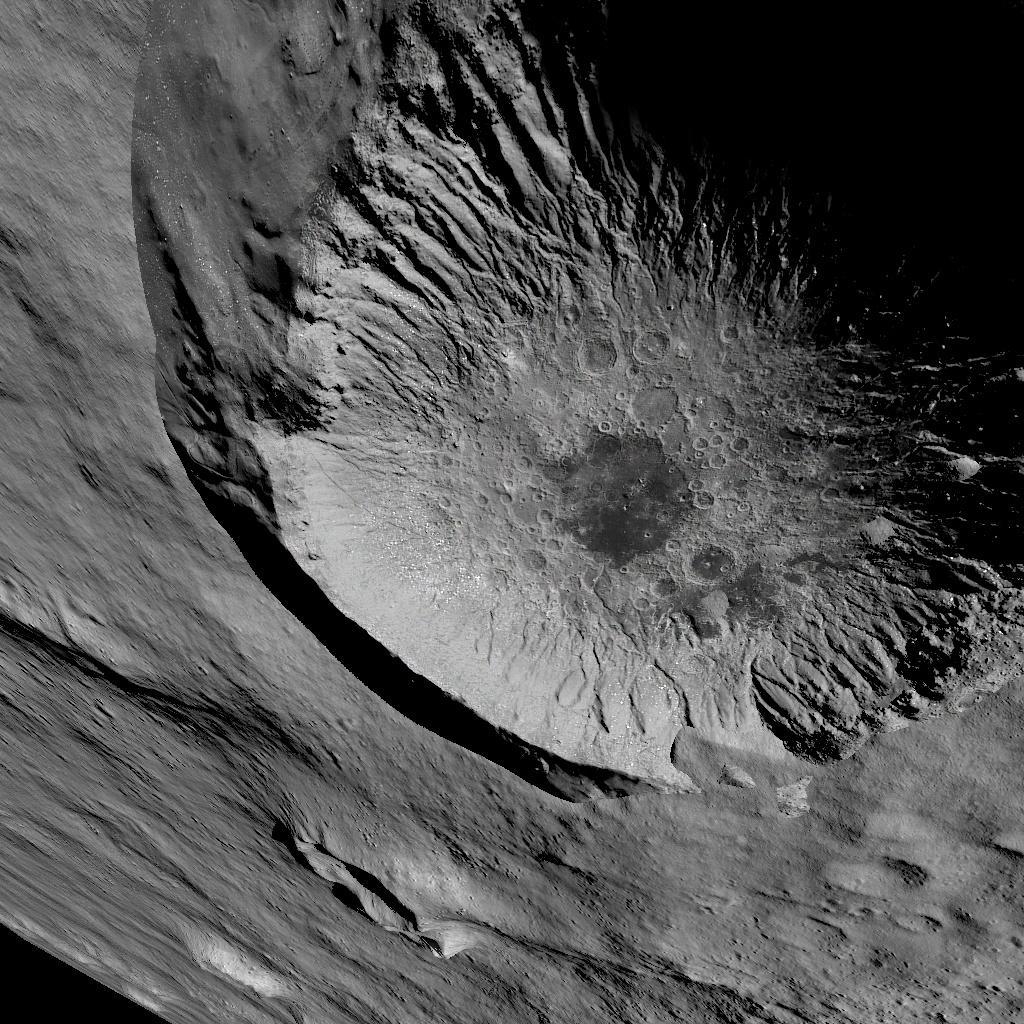Crater: (105, 0, 1024, 805), (257, 815, 433, 964)
Plan surface: (480, 824, 1019, 1012)
